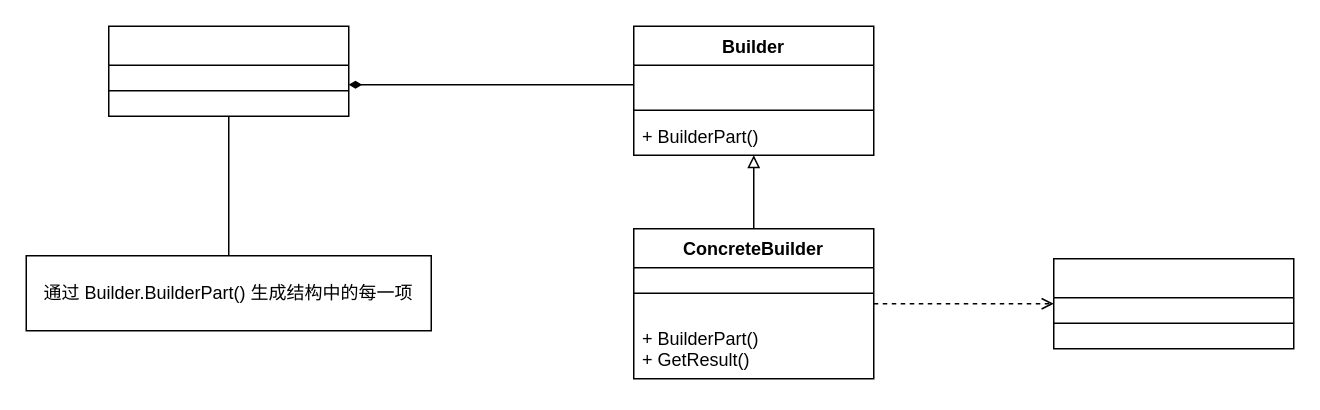
This 1320x410 diagram has some shape labels left out. Each missing label, with the centre of its shape:
"Director" goes at point 228,70.
"Product" goes at point 1173,303.
